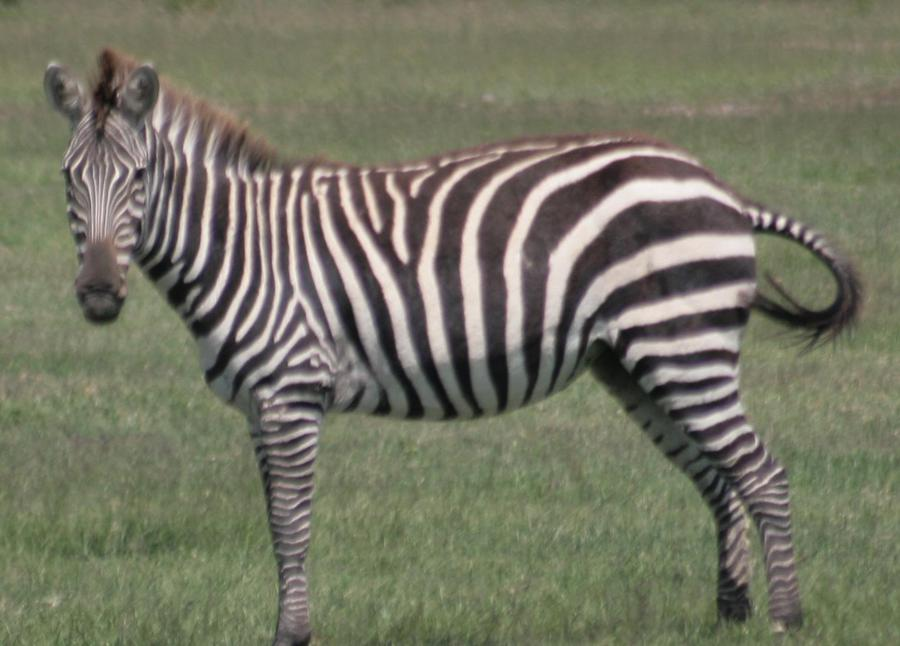zebra_plains: (164, 129, 789, 431)
